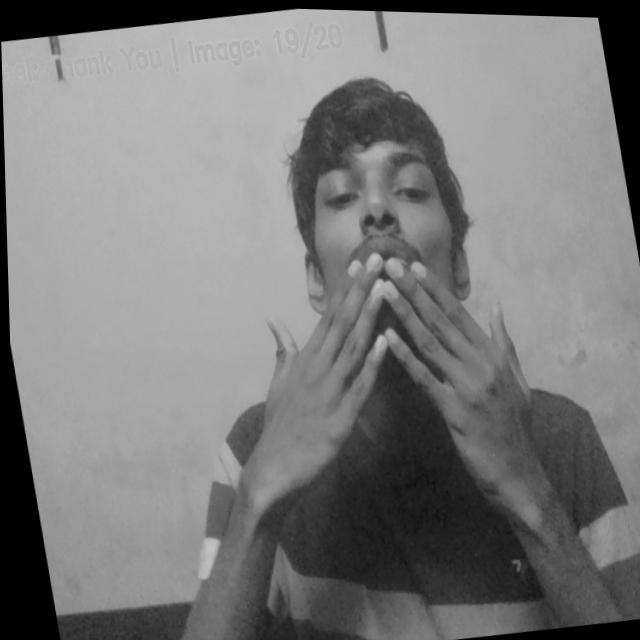Thank You: (221, 224, 556, 538)
